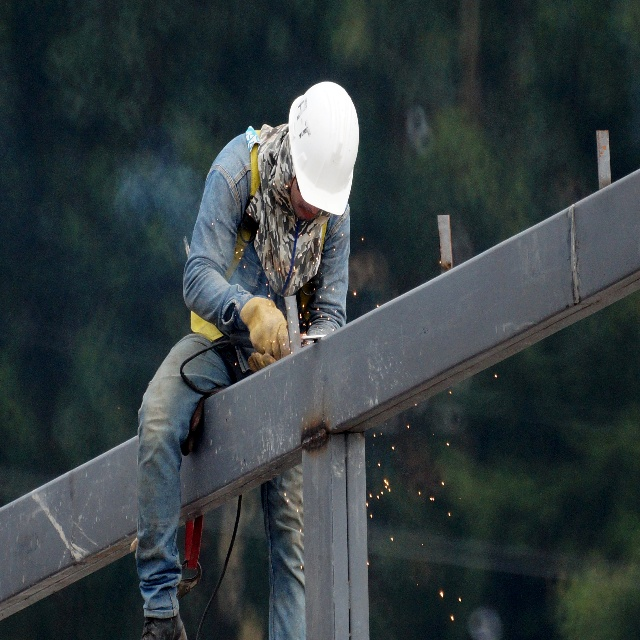Guantes: (240, 298, 290, 361), (246, 352, 275, 373)
